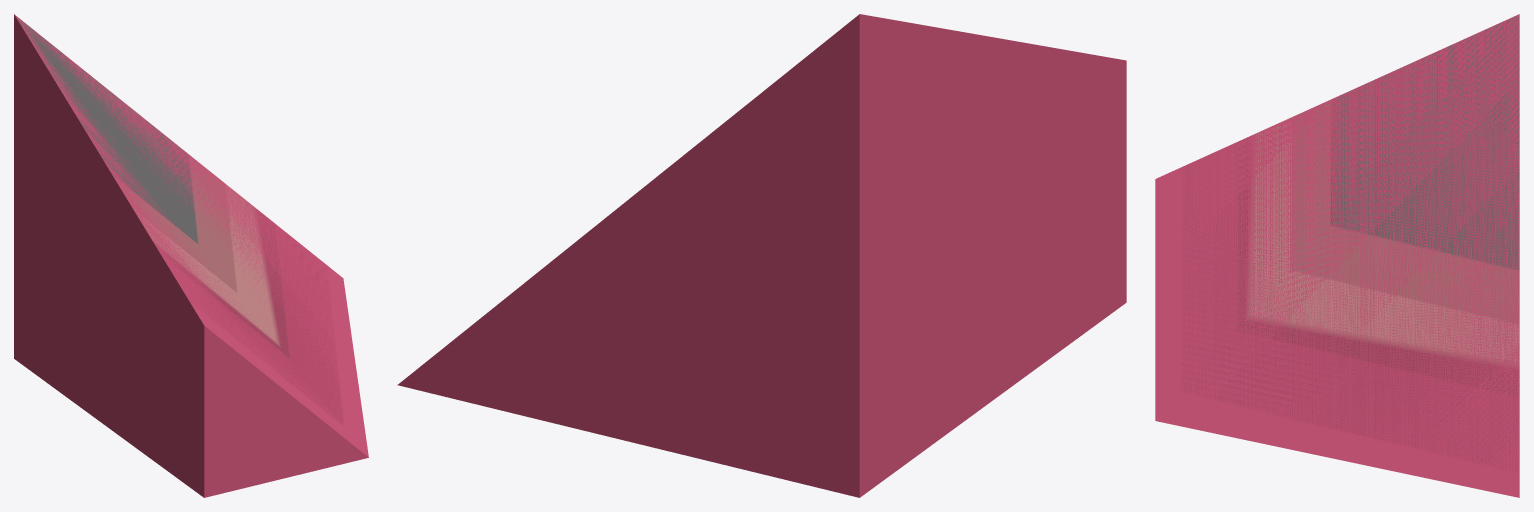
Rendered from r5c2_border_pink.gltf.
3 renders of one model, left to right at view 1: azimuth 30°, elevation 25°; view 2: azimuth 150°, elevation 25°; view 3: azimuth 270°, elevation 25°, orthographic. The views are drawn at different scales.
Visible parts, largest first — view 1: r5c2_border_pink; view 2: r5c2_border_pink; view 3: r5c2_border_pink.
Boxes of the visible parts, x1=… form: r5c2_border_pink: x1=14, y1=14, x2=368, y2=497; r5c2_border_pink: x1=397, y1=14, x2=1126, y2=497; r5c2_border_pink: x1=1155, y1=14, x2=1519, y2=497.
Size of the model in its own units: 2.1 by 2.1 by 2.1.
Materials: 1 (1 with a texture image).
